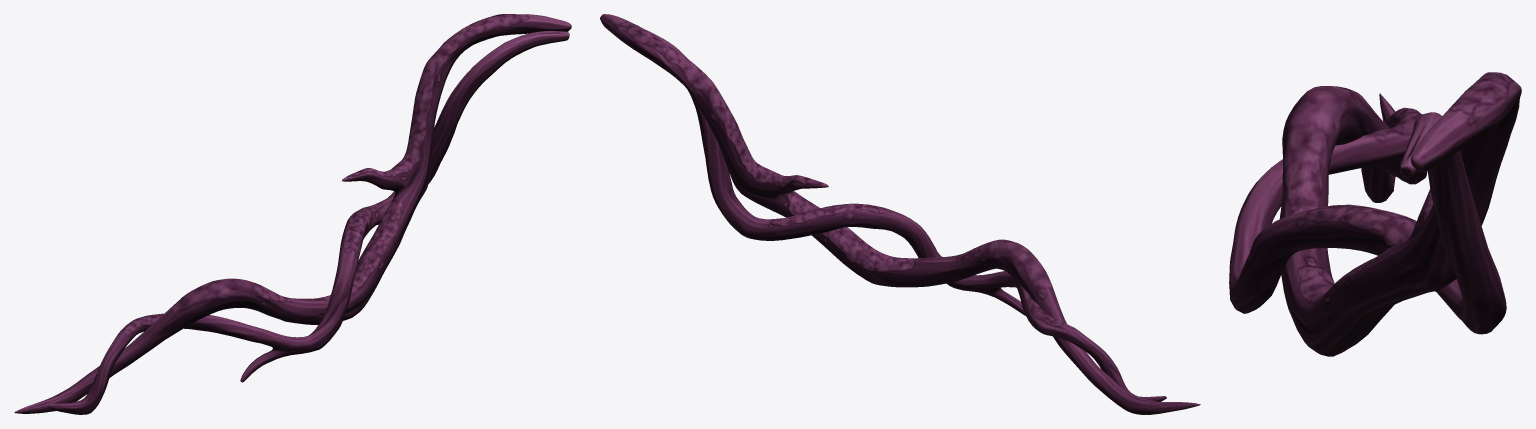
Rendered from sky_root_02b_chaos.glb.
The picture shows the model from 3 angles, left to right: view 1: azimuth 30°, elevation 25°; view 2: azimuth 150°, elevation 25°; view 3: azimuth 270°, elevation 25°; orthographic projection. The views are drawn at different scales.
Parts seen in each view (by area): view 1: root_02b; view 2: root_02b; view 3: root_02b.
Part boxes in pixels (left/top/right/bottom): root_02b: left=14, top=14, right=571, bottom=414; root_02b: left=600, top=14, right=1200, bottom=414; root_02b: left=1229, top=72, right=1521, bottom=356.
Size of the model in its own units: 18.56 by 8.49 by 4.15.
Materials: 1 (1 with a texture image).
